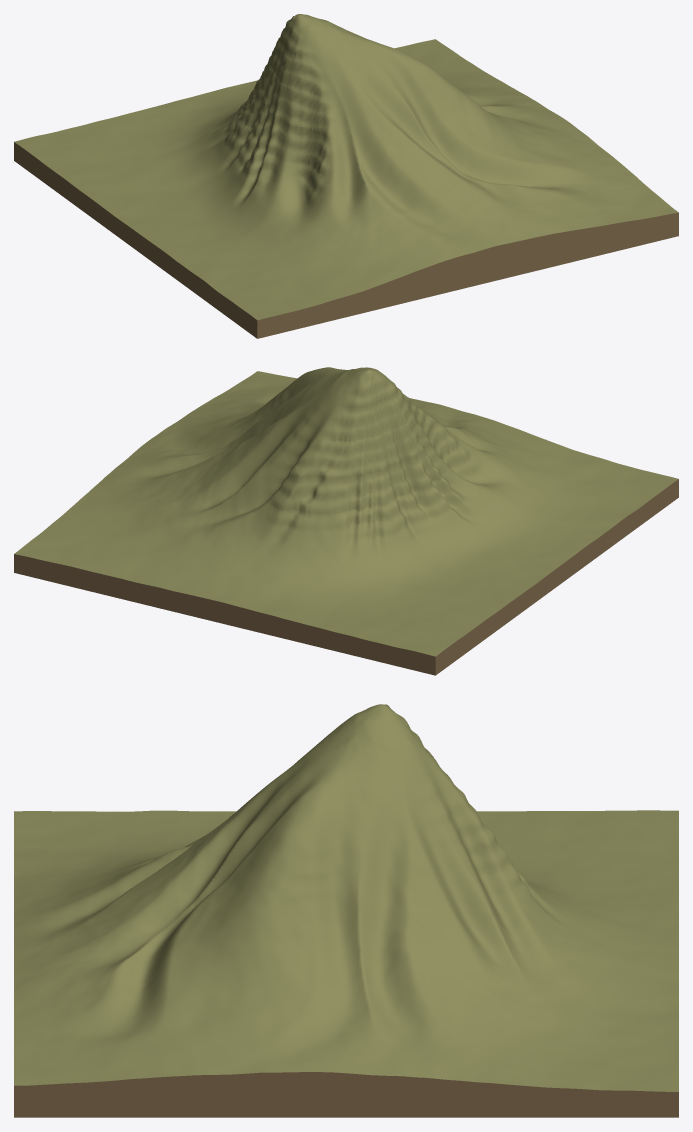
File: contour-mountain.glb
The picture shows the model from 3 angles, top to bottom: view 1: azimuth 30°, elevation 25°; view 2: azimuth 150°, elevation 25°; view 3: azimuth 270°, elevation 25°; orthographic projection. The views are drawn at different scales.
Parts seen in each view (by area): view 1: Base, Slice_1, Slice_2, Slice_3, Slice_4, Slice_5; view 2: Base, Slice_1, Slice_2, Slice_3, Slice_4, Slice_5; view 3: Base, Slice_1, Slice_2, Slice_3, Slice_4, Slice_5.
Boxes of the visible parts, <box> form: Base: <box>14,39,678,338</box>; Slice_1: <box>219,94,563,232</box>; Slice_2: <box>241,84,502,182</box>; Slice_3: <box>256,56,468,137</box>; Slice_4: <box>270,34,433,97</box>; Slice_5: <box>280,14,371,56</box>; Base: <box>14,371,678,675</box>; Slice_1: <box>162,405,504,552</box>; Slice_2: <box>219,393,463,513</box>; Slice_3: <box>256,379,435,477</box>; Slice_4: <box>288,367,413,441</box>; Slice_5: <box>322,367,396,407</box>; Base: <box>14,810,678,1117</box>; Slice_1: <box>65,836,556,1031</box>; Slice_2: <box>148,815,520,959</box>; Slice_3: <box>208,789,494,902</box>; Slice_4: <box>261,742,460,845</box>; Slice_5: <box>313,704,423,776</box>.
Size of the model in its own units: 4.4 by 1.82 by 4.4.
